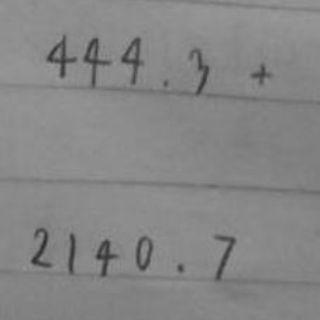.: (159, 77, 172, 90), (174, 262, 187, 275)
0: (134, 236, 153, 271)
1: (66, 232, 78, 276)
2: (30, 227, 53, 269)
3: (186, 47, 211, 95)
4: (44, 33, 79, 79), (82, 36, 112, 87), (120, 36, 145, 86), (93, 239, 119, 278)
7: (213, 233, 238, 279)
